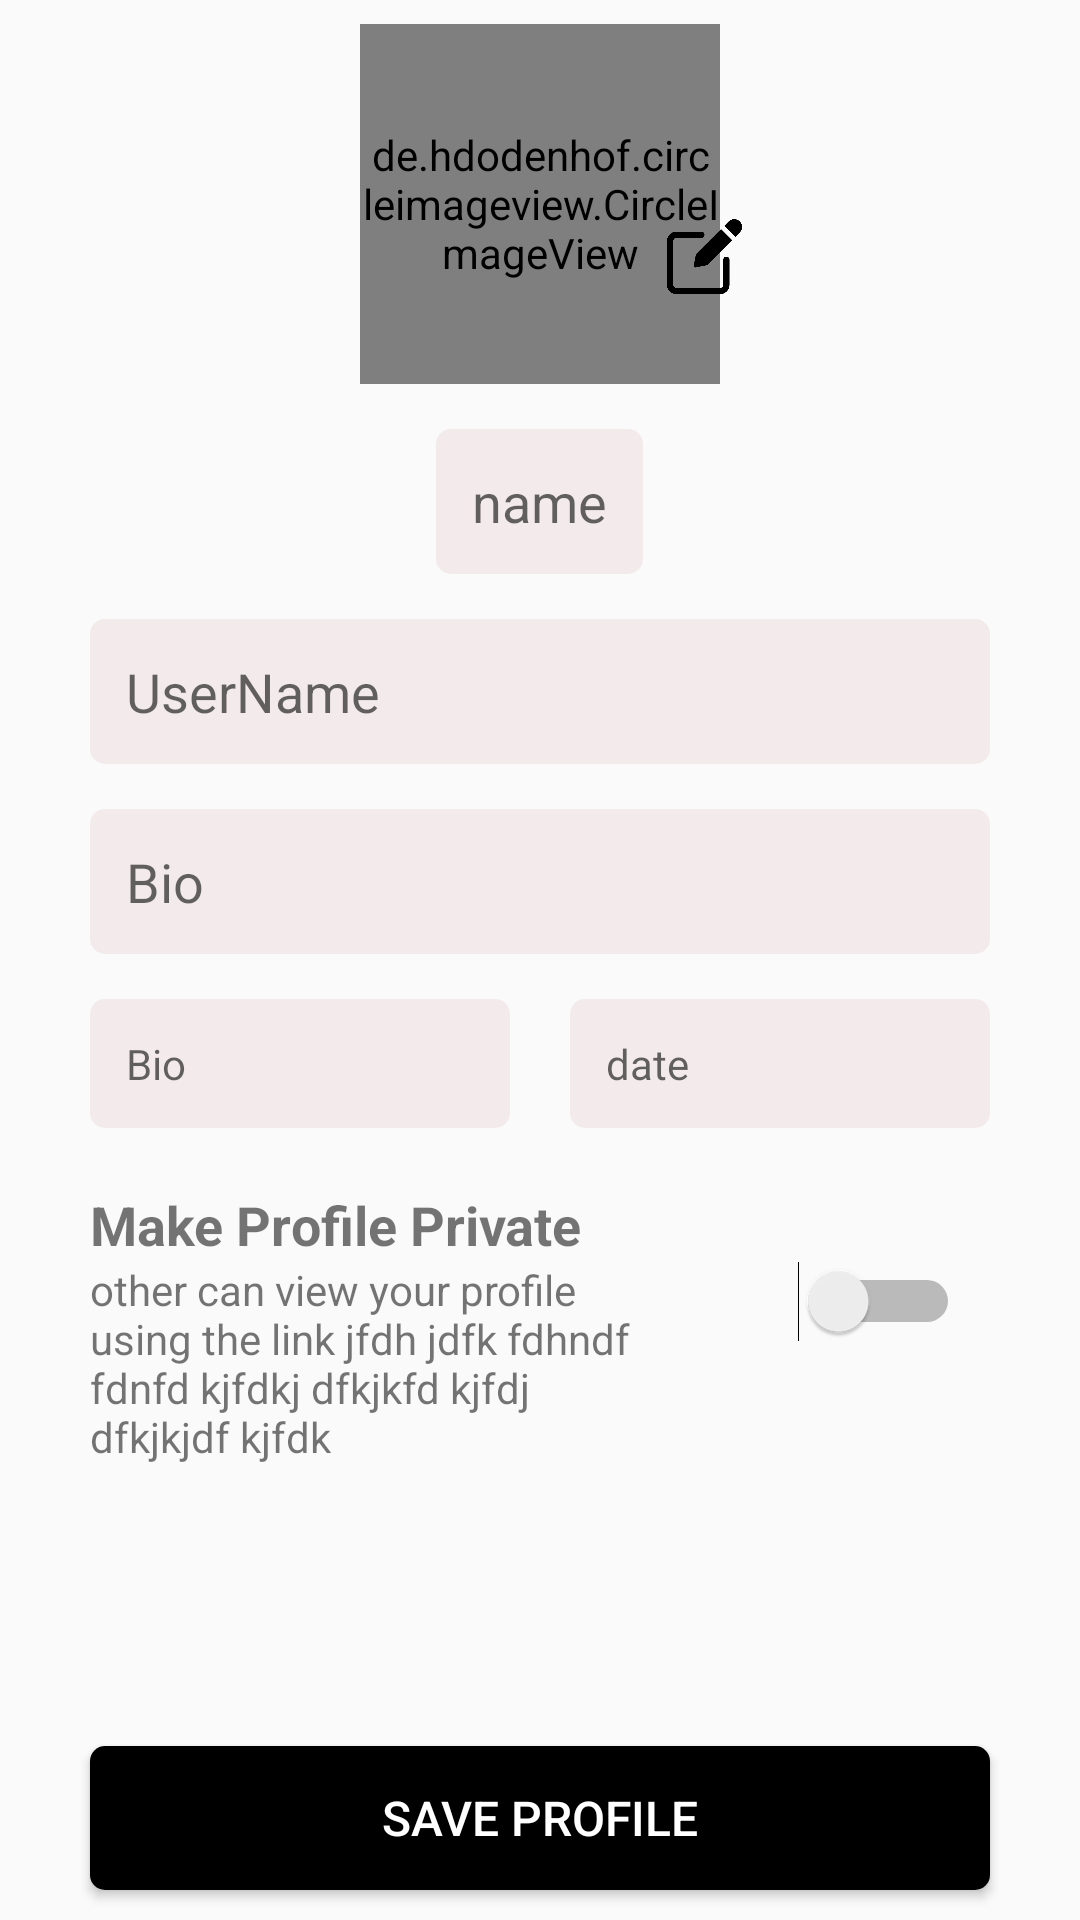

Screen size 1080 × 1920. Icon name, then its center in pixels as point (x, y):
edit: point (704, 256)
